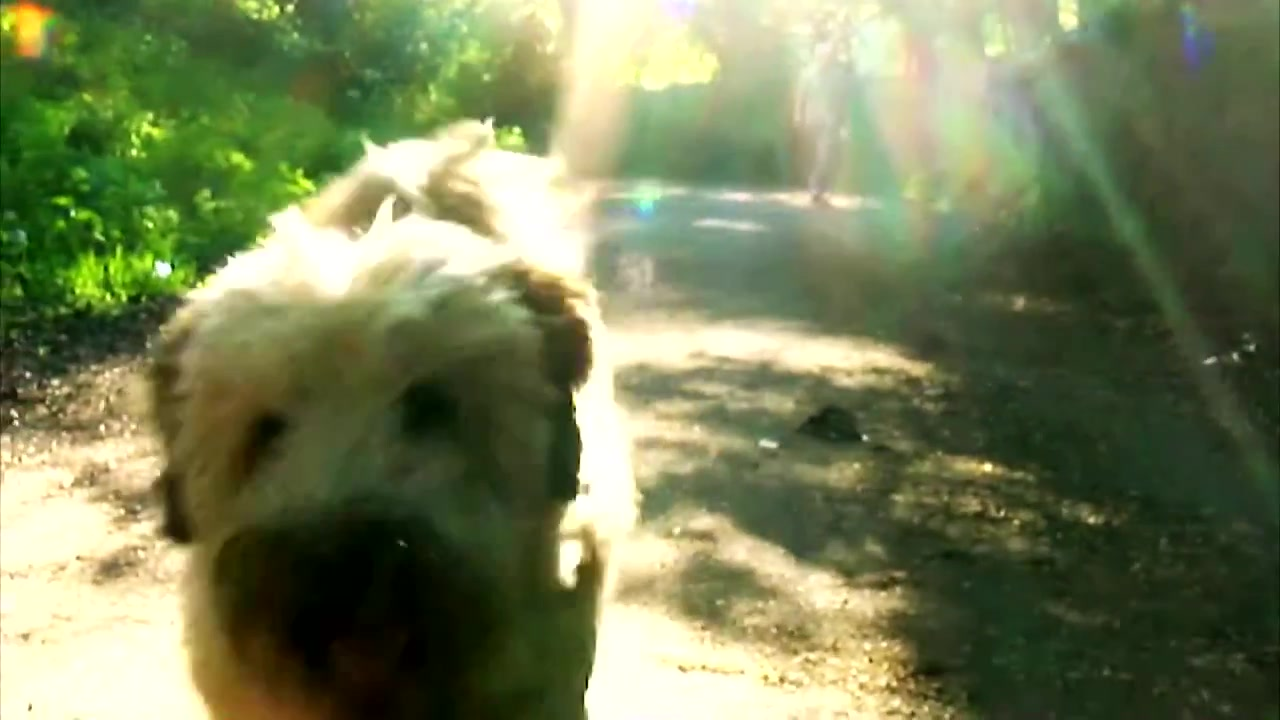dog: (146, 122, 617, 720)
